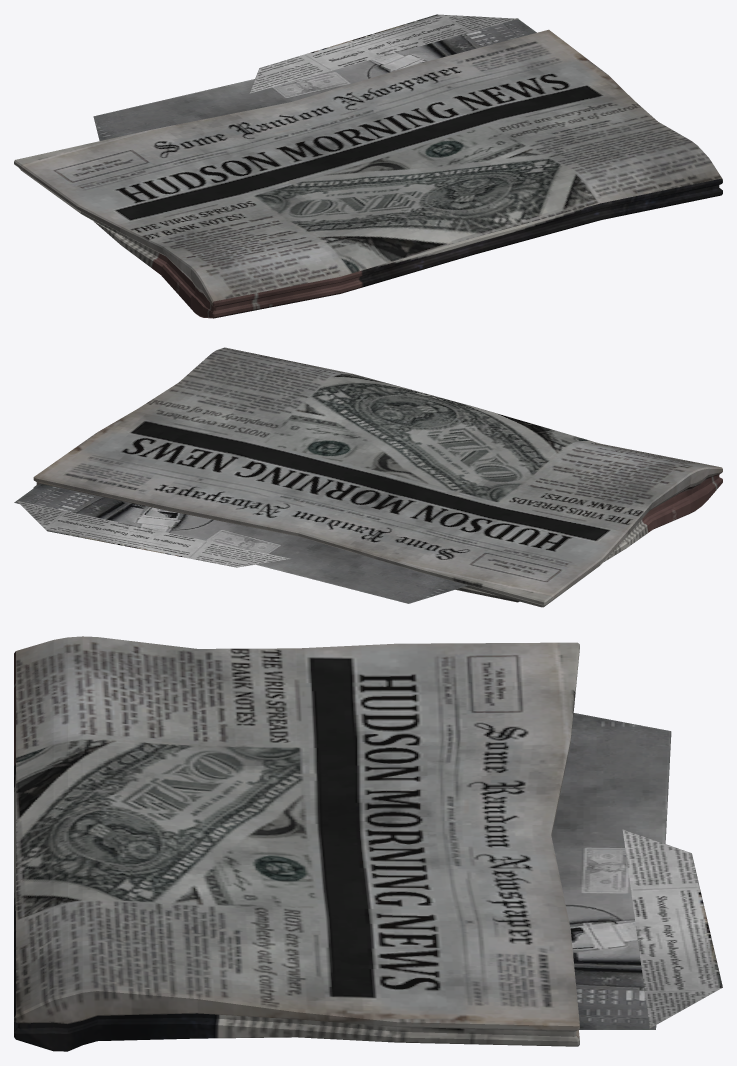
The model's file is SM_Newspaper04.glb.
3 views of the same model, one above another, from view 1: azimuth 30°, elevation 25°; view 2: azimuth 150°, elevation 25°; view 3: azimuth 270°, elevation 25° (orthographic). The views are drawn at different scales.
Parts seen in each view (by area): view 1: SM_Newspaper04; view 2: SM_Newspaper04; view 3: SM_Newspaper04.
Boxes of the visible parts, box(x1,y1,x2,y2) form: SM_Newspaper04: box(14, 14, 722, 318); SM_Newspaper04: box(14, 347, 722, 607); SM_Newspaper04: box(14, 636, 722, 1051).
Size of the model in its own units: 0.6 by 0.0585 by 0.4698.
Materials: 1 (1 with a texture image).
